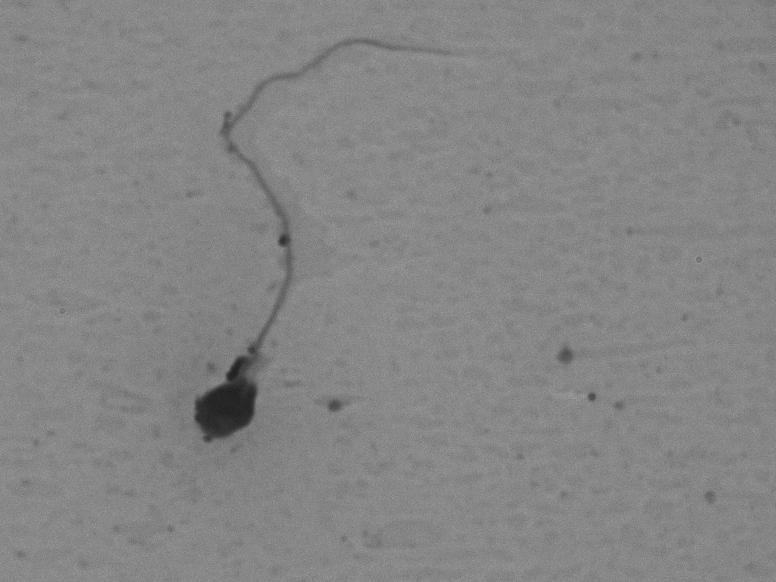Abnormal: (138, 22, 512, 462)
